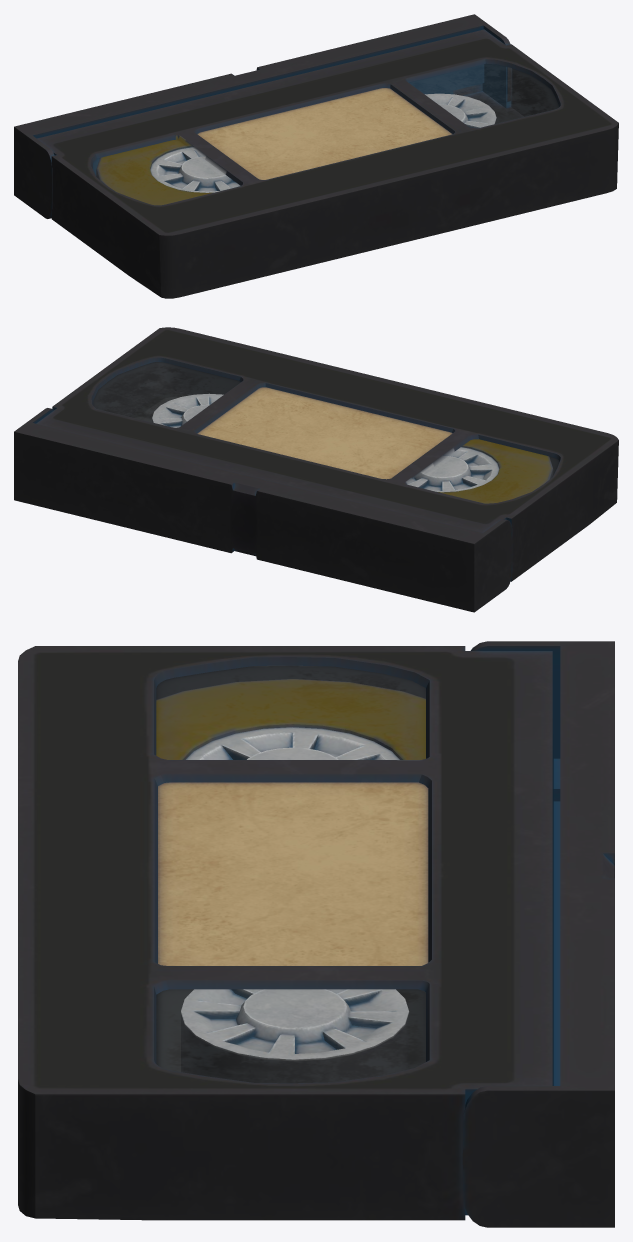
File: vhs_tape.glb
3 renders of one model, top to bottom at view 1: azimuth 30°, elevation 25°; view 2: azimuth 150°, elevation 25°; view 3: azimuth 270°, elevation 25°, orthographic. The views are drawn at different scales.
Visible parts, largest first — view 1: VHS_Body_Circle, VHS_Flip_Plane.001, VHS_SupplyReel_Cylinder, VHS_RecieverReel_Cylinder.001; view 2: VHS_Body_Circle, VHS_Flip_Plane.001, VHS_SupplyReel_Cylinder, VHS_RecieverReel_Cylinder.001; view 3: VHS_Body_Circle, VHS_Flip_Plane.001, VHS_RecieverReel_Cylinder.001, VHS_SupplyReel_Cylinder.
Part boxes in pixels (left/top/right/bottom): VHS_Body_Circle: left=37, top=29, right=618, bottom=298; VHS_Flip_Plane.001: left=14, top=14, right=511, bottom=218; VHS_SupplyReel_Cylinder: left=96, top=136, right=240, bottom=205; VHS_RecieverReel_Cylinder.001: left=425, top=93, right=496, bottom=128; VHS_Body_Circle: left=36, top=327, right=618, bottom=581; VHS_Flip_Plane.001: left=14, top=408, right=512, bottom=612; VHS_SupplyReel_Cylinder: left=406, top=439, right=553, bottom=503; VHS_RecieverReel_Cylinder.001: left=152, top=393, right=223, bottom=427; VHS_Body_Circle: left=18, top=646, right=560, bottom=1220; VHS_Flip_Plane.001: left=462, top=641, right=614, bottom=1227; VHS_RecieverReel_Cylinder.001: left=181, top=989, right=409, bottom=1083; VHS_SupplyReel_Cylinder: left=156, top=679, right=425, bottom=759.
Bounding box in the file's own units: 2 × 0.2847 × 1.12.
1 material, 1 textured.
